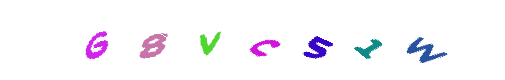1: (277, 0, 357, 80)
5: (233, 0, 313, 80)
8: (124, 0, 204, 80)
C: (212, 0, 292, 80)
G: (123, 0, 203, 80)
V: (169, 0, 249, 80)
W: (363, 0, 443, 80)
